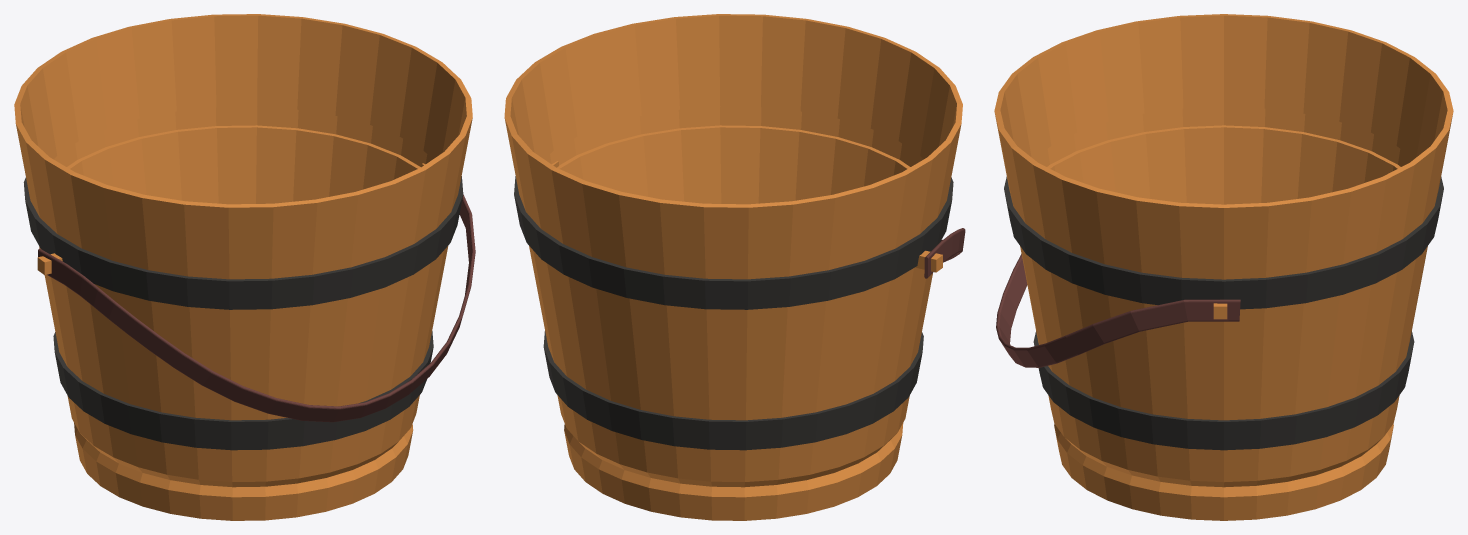
Rendered from balde.fbx.
The picture shows the model from 3 angles, left to right: view 1: azimuth 30°, elevation 25°; view 2: azimuth 150°, elevation 25°; view 3: azimuth 270°, elevation 25°; orthographic projection.
Parts seen in each view (by area): view 1: Circle.002; view 2: Circle.002; view 3: Circle.002.
Part boxes in pixels (<box>): Circle.002: <box>14,14,475,520</box>; Circle.002: <box>504,14,965,520</box>; Circle.002: <box>994,14,1453,520</box>.
Size of the model in its own units: 303 by 245 by 298.
